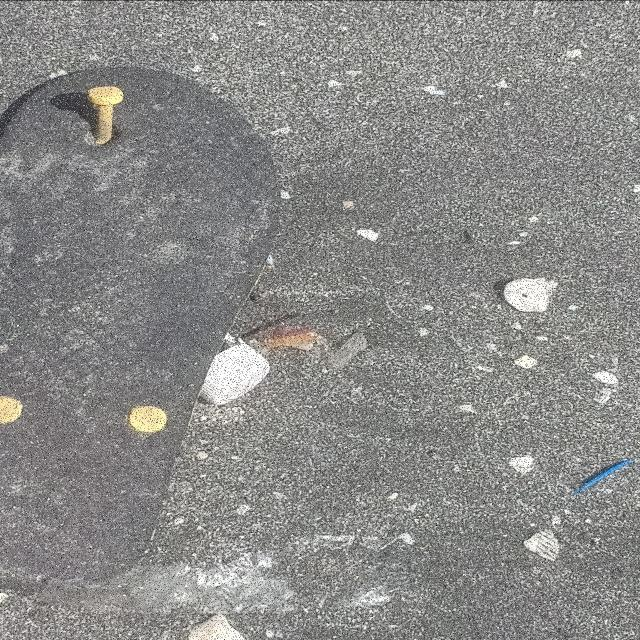plastic_waste: (195, 344, 272, 406)
rubber_waste: (1, 64, 282, 583)
